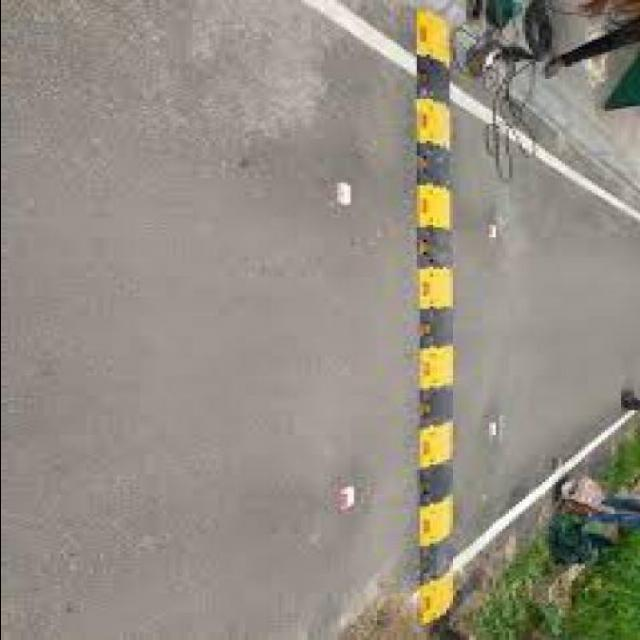Speed_Breaker: (408, 0, 464, 638), (416, 8, 458, 620)
